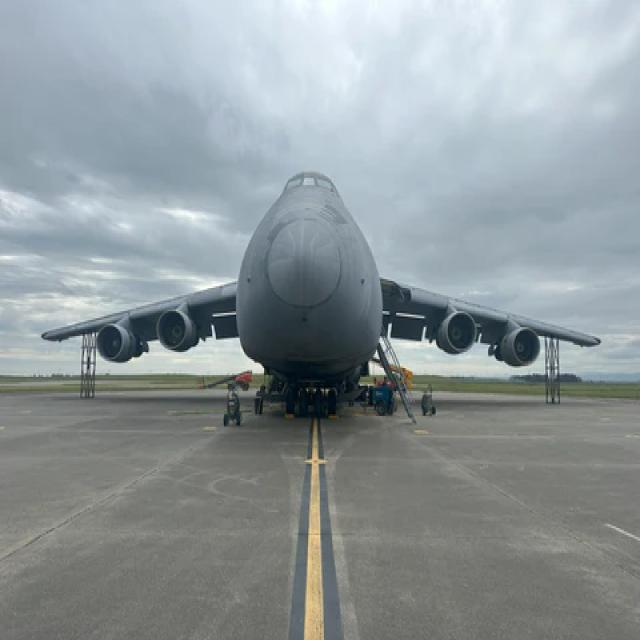C5: (19, 143, 636, 441)
